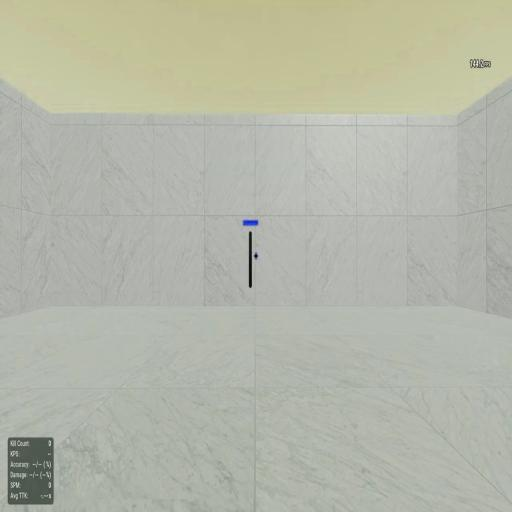Crosshair: (253, 252, 259, 260)
Target: (249, 235, 252, 285)
